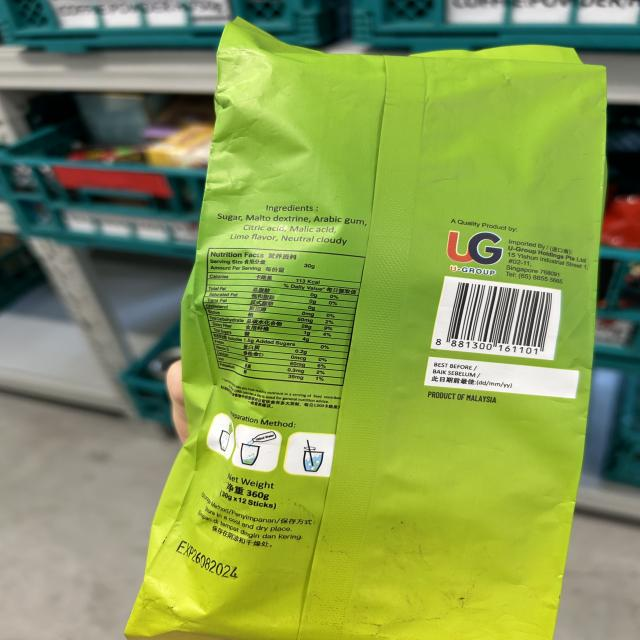object_name: (197, 31, 561, 640)
